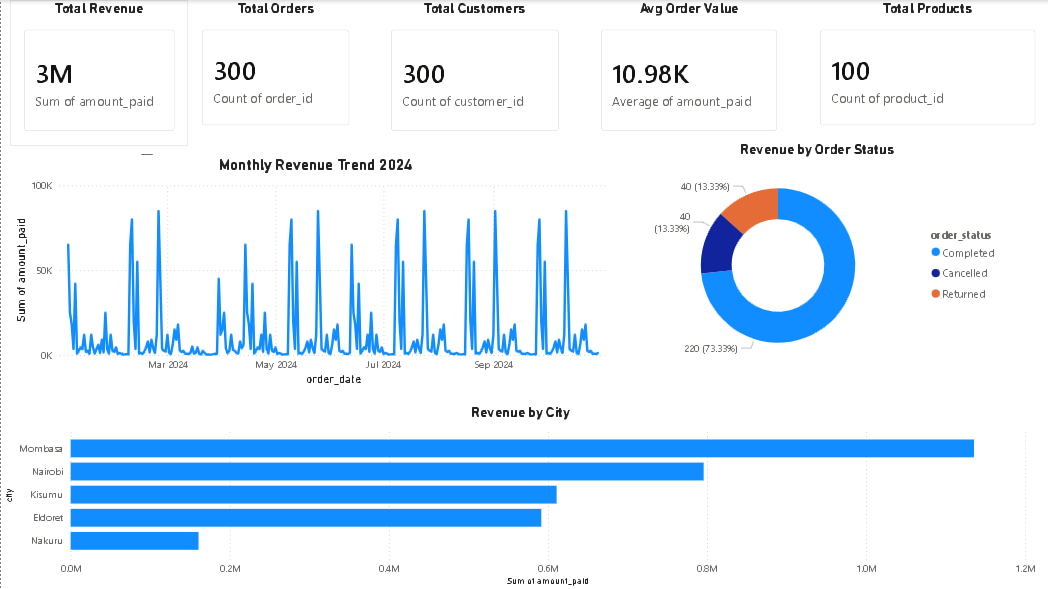

Layout of this report page (visuals, bound fields, positions):
{"tool":"powerbi","page":{"name":"Excecutive summary","canvas":[1280,720],"ordinal":0},"visuals":[{"type":"cardVisual","title":"Total Revenue","fields":{"Data":["Sum(payments1.amount_paid)"]},"box":[10.5,0,218,177.6],"z":0},{"type":"cardVisual","title":"Total Orders","fields":{"Data":["CountNonNull(orders.order_id)"]},"box":[228.6,0,214.5,170.5],"z":1000},{"type":"cardVisual","title":"Total Customers","fields":{"Data":["Count(customers_fixed.customer_id)"]},"box":[458.9,0,239.1,177.6],"z":2000},{"type":"cardVisual","title":"Total Products","fields":{"Data":["Count(products1.product_id)"]},"box":[982.9,0,297.1,170.5],"z":3000},{"type":"cardVisual","title":"Avg Order Value","fields":{"Data":["Avg(payments1.amount_paid)"]},"box":[715.6,0,249.7,177.6],"z":4000},{"type":"donutChart","title":"Revenue by Order Status","fields":{"Category":["orders.order_status"],"Y":["CountNonNull(payments1.payment_date)"]},"box":[756,172.3,478.2,284.8],"z":5000},{"type":"lineChart","title":"Monthly Revenue Trend 2024","fields":{"Category":["orders.order_date"],"Y":["Sum(payments1.amount_paid)"]},"box":[10.5,189.9,745.5,284.8],"z":6000},{"type":"clusteredBarChart","title":"Revenue by City","fields":{"Category":["customers_fixed.city"],"Y":["Sum(payments1.amount_paid)"]},"box":[0,493,1268,227],"z":7000}]}

Visuals, with their boxes in screenshot pixels (x1, y1, x2, y2), scaled from the page's 1280x720 canvas onto the 1048x589 screenshot:
"Total Revenue" cardVisual: 9,0,187,145
"Total Orders" cardVisual: 187,0,363,139
"Total Customers" cardVisual: 376,0,571,145
"Total Products" cardVisual: 805,0,1047,139
"Avg Order Value" cardVisual: 586,0,790,145
"Revenue by Order Status" donutChart: 619,141,1011,374
"Monthly Revenue Trend 2024" lineChart: 9,155,619,388
"Revenue by City" clusteredBarChart: 0,403,1038,588
